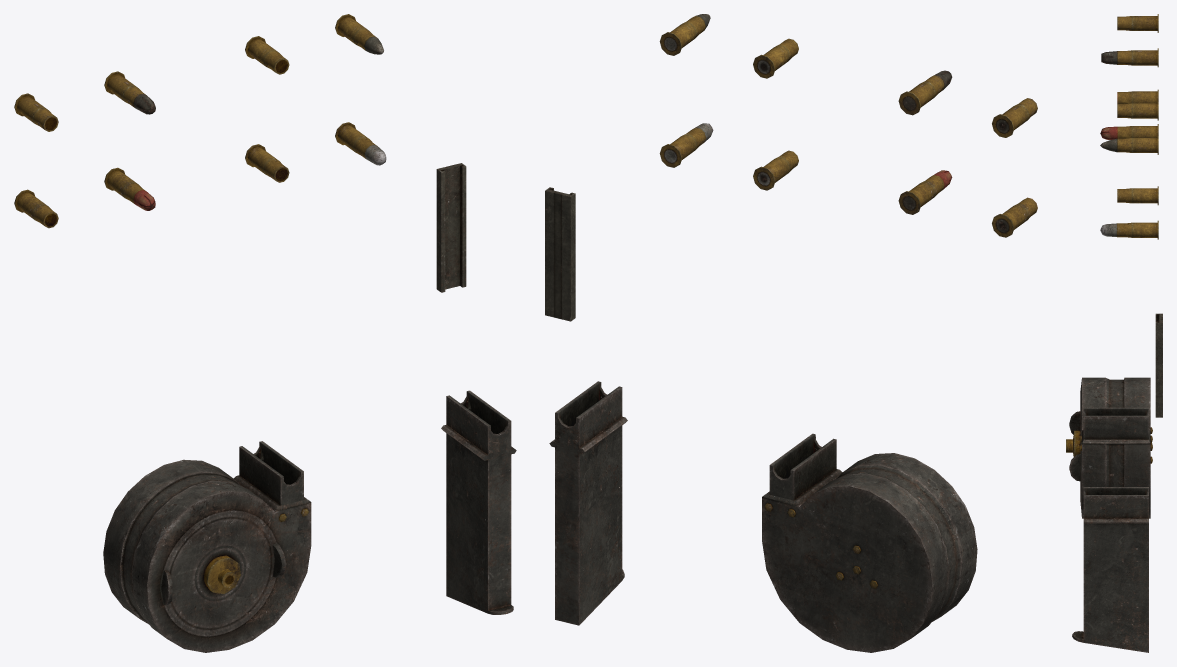
Rendered from ammo.FBX.
The picture shows the model from 3 angles, left to right: view 1: azimuth 30°, elevation 25°; view 2: azimuth 150°, elevation 25°; view 3: azimuth 270°, elevation 25°; orthographic projection. The views are drawn at different scales.
Visible parts, largest first — view 1: ammo_magazine_drum, ammo_magazine, ammo_feeder, ammo_explosive, ammo_fire, ammo_punch, ammo_pierce, ammo_explosive_shell, ammo_punch_shell, ammo_pierce_shell, ammo_fire_shell; view 2: ammo_magazine_drum, ammo_magazine, ammo_feeder, ammo_explosive, ammo_punch, ammo_fire, ammo_pierce, ammo_pierce_shell, ammo_punch_shell, ammo_explosive_shell, ammo_fire_shell; view 3: ammo_magazine, ammo_magazine_drum, ammo_punch, ammo_fire, ammo_feeder, ammo_pierce, ammo_explosive, ammo_punch_shell, ammo_pierce_shell, ammo_fire_shell, ammo_explosive_shell.
Boxes of the visible parts, box(x1,y1,x2,y2) form: ammo_magazine_drum: box(103, 441, 311, 652); ammo_magazine: box(441, 390, 516, 614); ammo_feeder: box(436, 163, 466, 292); ammo_explosive: box(104, 167, 155, 210); ammo_fire: box(104, 71, 155, 114); ammo_punch: box(335, 122, 386, 165); ammo_pierce: box(335, 14, 383, 54); ammo_explosive_shell: box(14, 189, 58, 228); ammo_punch_shell: box(245, 144, 289, 182); ammo_pierce_shell: box(245, 36, 289, 74); ammo_fire_shell: box(14, 93, 58, 131); ammo_magazine_drum: box(762, 433, 977, 652); ammo_magazine: box(549, 381, 627, 625); ammo_feeder: box(545, 187, 575, 321); ammo_explosive: box(898, 170, 952, 214); ammo_punch: box(659, 123, 713, 167); ammo_fire: box(898, 70, 952, 115); ammo_pierce: box(659, 14, 710, 55); ammo_pierce_shell: box(753, 38, 798, 78); ammo_punch_shell: box(753, 150, 798, 190); ammo_explosive_shell: box(992, 197, 1037, 237); ammo_fire_shell: box(992, 98, 1037, 137); ammo_magazine: box(1072, 487, 1148, 652); ammo_magazine_drum: box(1066, 377, 1152, 518); ammo_punch: box(1100, 220, 1158, 239); ammo_fire: box(1101, 48, 1158, 67); ammo_feeder: box(1155, 313, 1162, 417); ammo_pierce: box(1100, 136, 1158, 154); ammo_explosive: box(1100, 124, 1158, 139); ammo_punch_shell: box(1117, 186, 1158, 205); ammo_pierce_shell: box(1117, 101, 1158, 120); ammo_fire_shell: box(1117, 14, 1158, 32); ammo_explosive_shell: box(1117, 89, 1158, 103).
Bounding box in the file's own units: 401 × 506 × 94.26.
